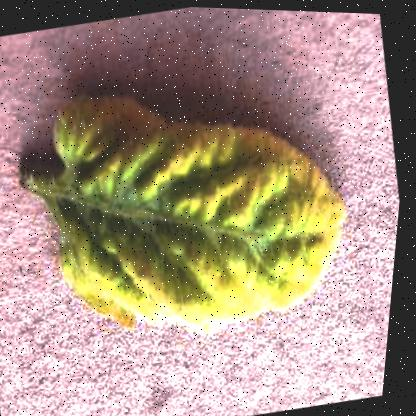Virus: (0, 46, 384, 371)
